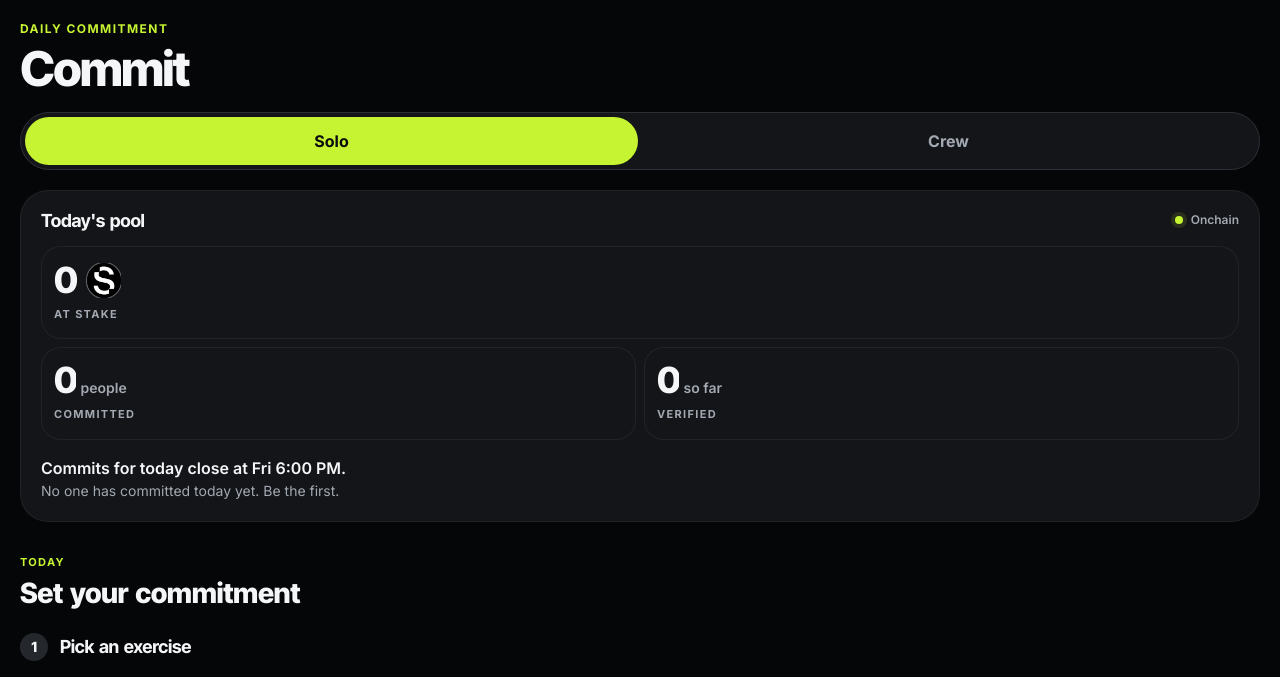
it: CommitScreen Solo / Crew › switches to the crew hub and back to the solo stake form
expect the heading "Set your commitment" is shown: met, box [20,576,300,610]
Click the radio button labelled "Crew": click(948, 141) [642,117,1255,165]
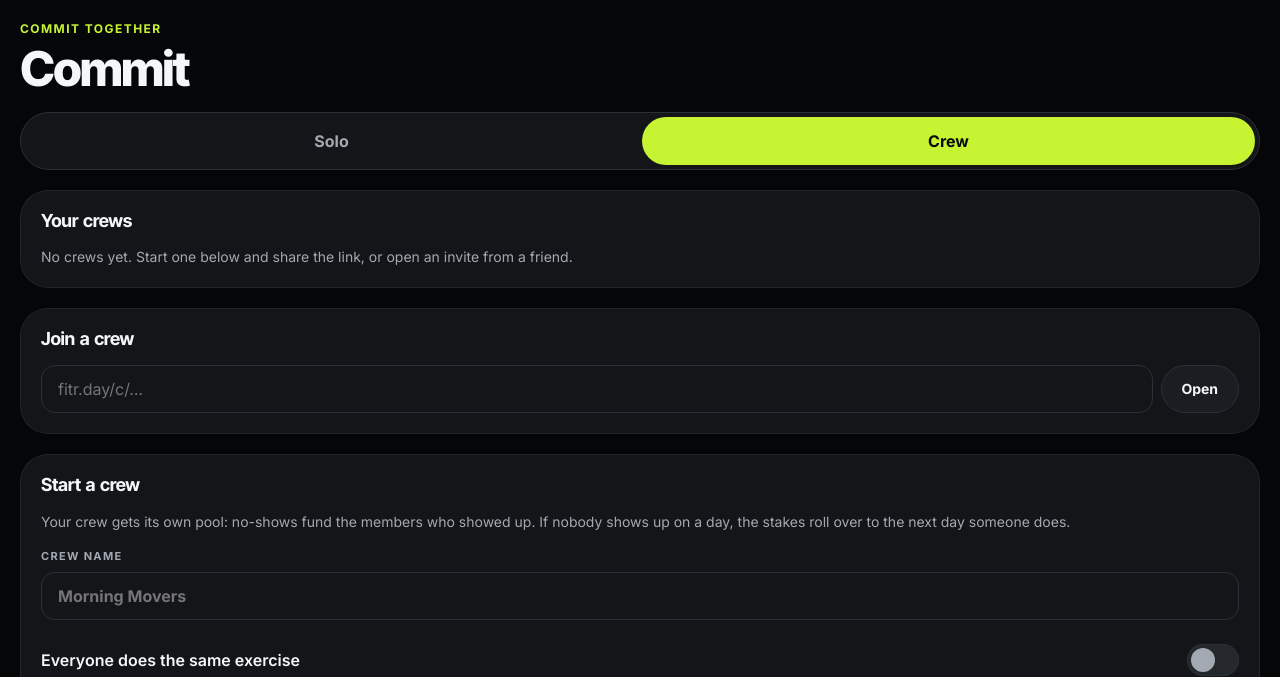
expect the heading "Your crews" is shown: met, box [41,210,132,231]
expect the heading "Start a crew" is shown: met, box [41,474,140,495]
expect the heading "Set your commitment" is gone: met
Click the radio button labelled "Solo": click(332, 141) [25,117,638,165]
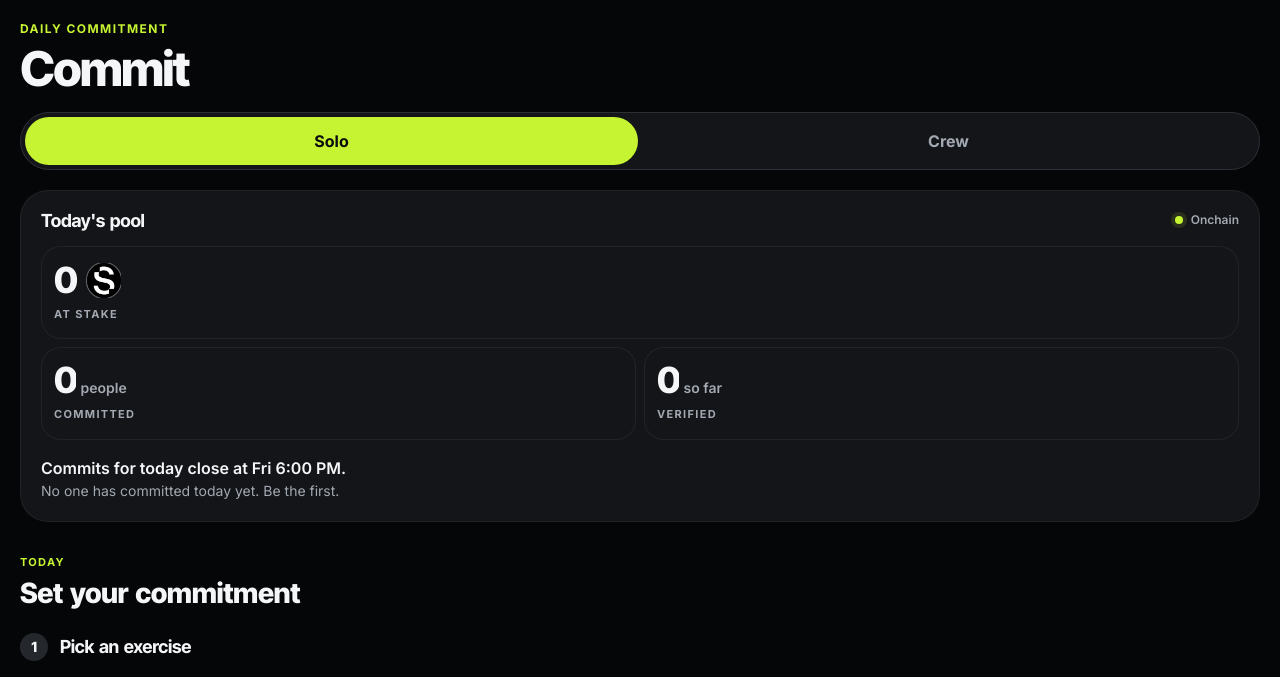
expect the heading "Set your commitment" is shown: met, box [20,576,300,610]
